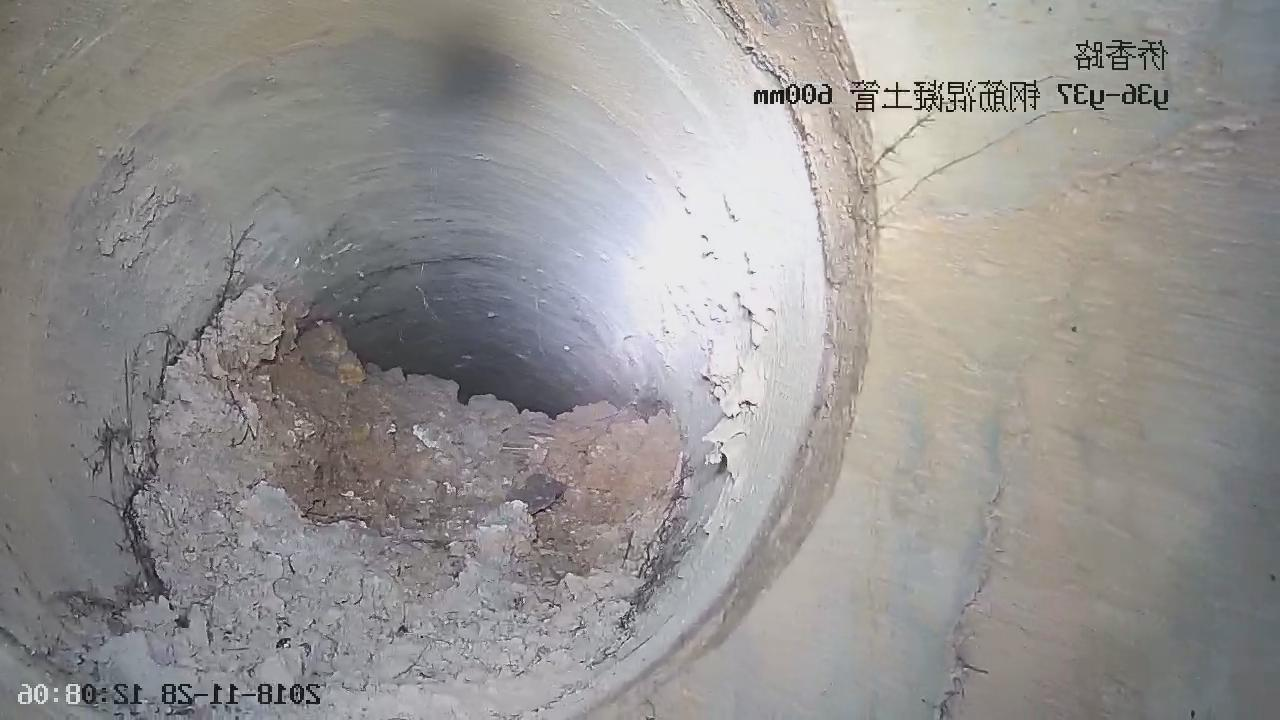CJ: (69, 287, 688, 719)
